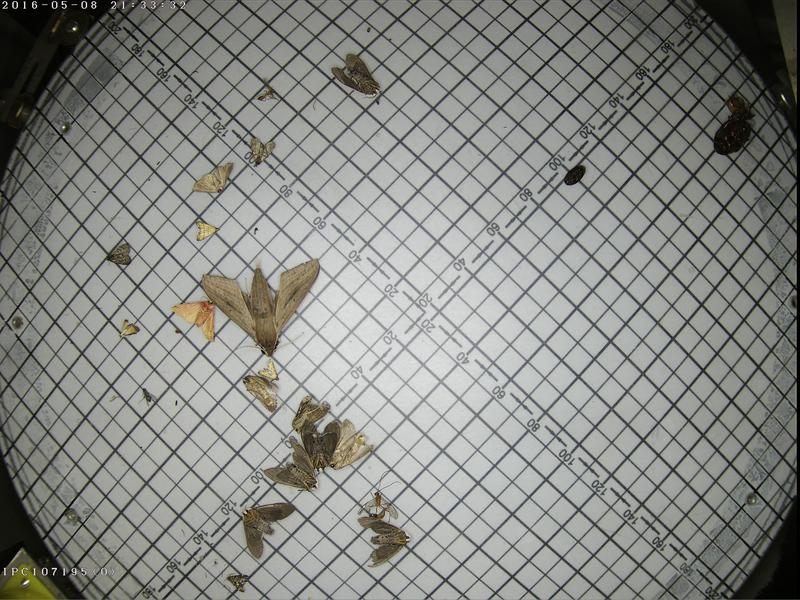Rice Leaf Roller: (195, 218, 217, 237), (120, 318, 136, 334), (261, 361, 278, 375)
Spodoptera litura: (337, 417, 370, 463), (241, 375, 279, 407)
